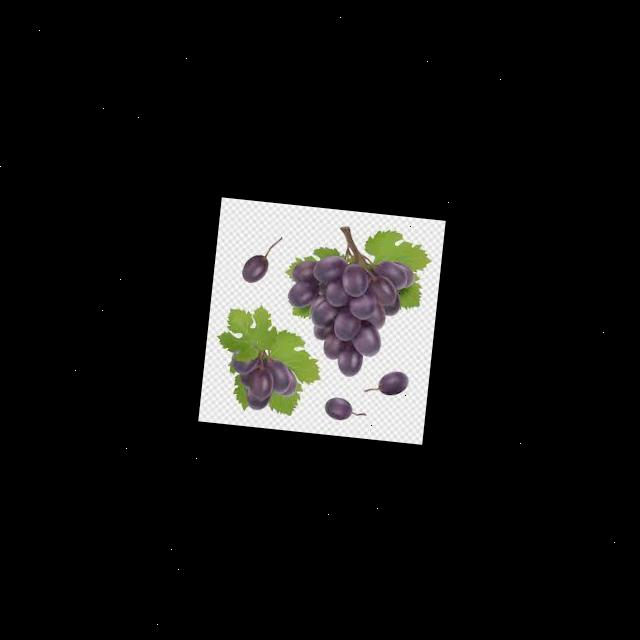grape: (225, 346, 299, 414), (239, 231, 282, 285)
